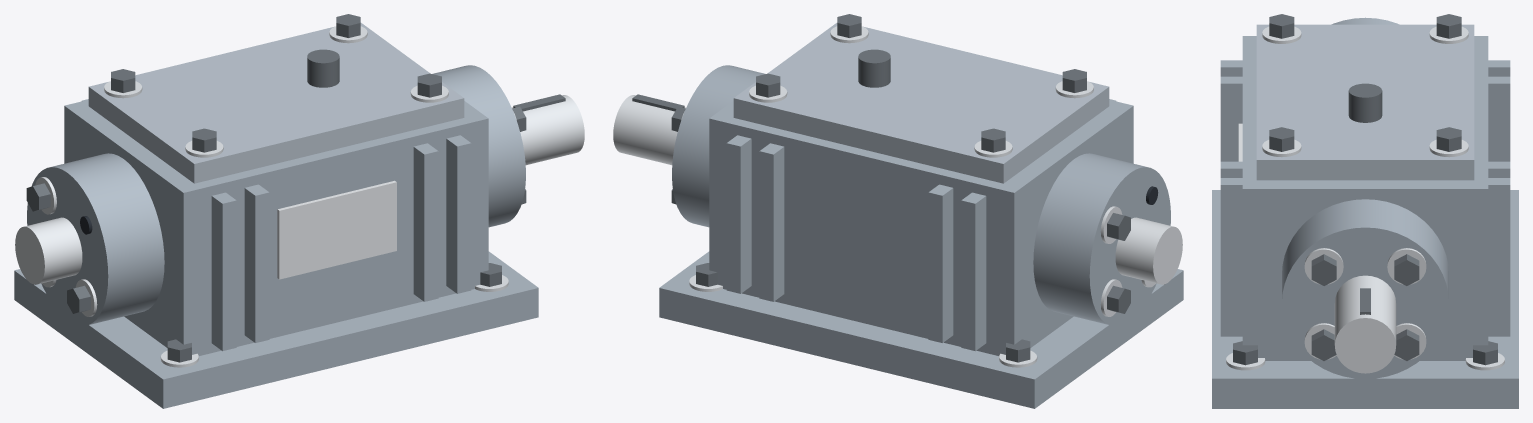
The picture shows the model from 3 angles, left to right: view 1: azimuth 30°, elevation 25°; view 2: azimuth 150°, elevation 25°; view 3: azimuth 270°, elevation 25°; orthographic projection. The views are drawn at different scales.
Visible parts, largest first — view 1: skříň převodovky; view 2: skříň převodovky; view 3: skříň převodovky.
Boxes of the visible parts, box(x1,y1,x2,y2) form: skříň převodovky: box(14, 14, 584, 408); skříň převodovky: box(613, 14, 1183, 408); skříň převodovky: box(1212, 14, 1518, 408).
Size of the model in its own units: 0.23 by 0.098 by 0.11.
